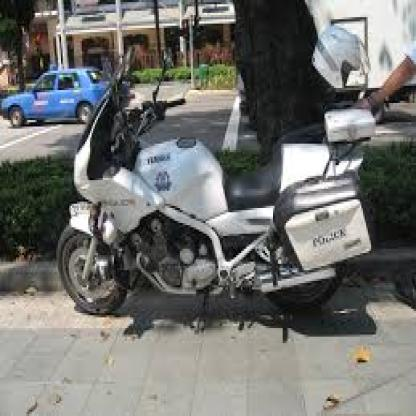bike: (60, 69, 373, 315)
car: (4, 66, 108, 125)
